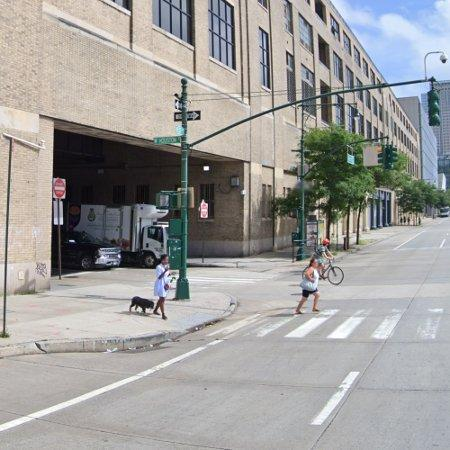crosswalks: (203, 307, 450, 340)
